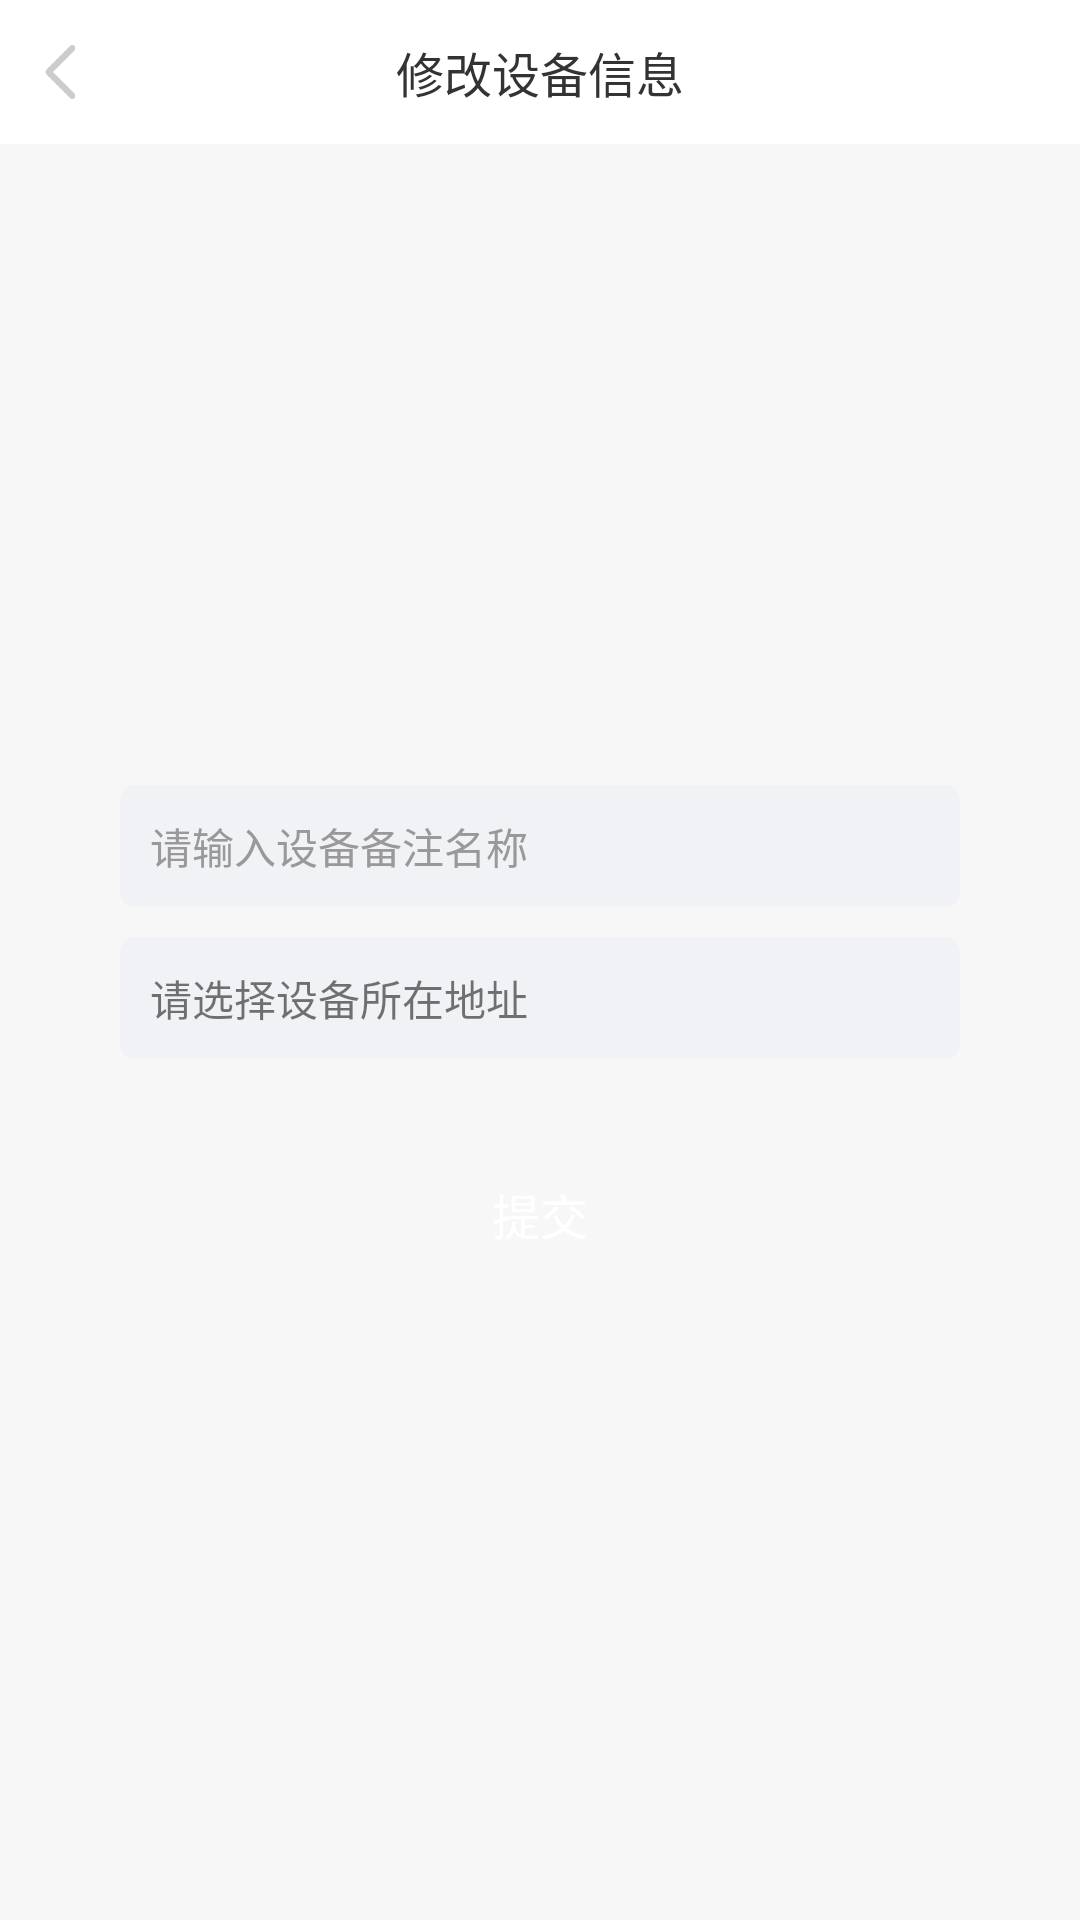

Locate icon controls on the screen. Image size 1080 x 1920, boxes as (x1, y1, x2, y2).
back: (46, 45, 75, 99)
